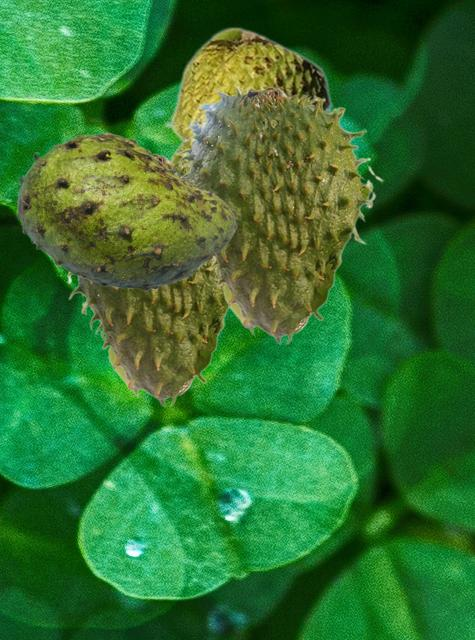guyabano: (175, 85, 383, 344), (66, 153, 228, 406), (15, 132, 236, 290), (163, 26, 332, 161)
